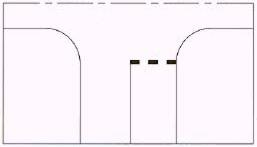sinais: (2, 0, 257, 147)
